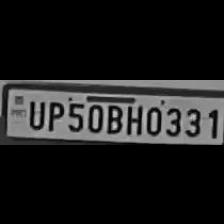0: (84, 98, 104, 132), (143, 100, 163, 134)
1: (202, 104, 222, 138)
3: (162, 101, 182, 135), (181, 103, 201, 137)
5: (64, 96, 84, 132)
B: (104, 99, 124, 133)
H: (123, 100, 143, 134)
P: (43, 96, 62, 130)
U: (23, 96, 44, 130)
